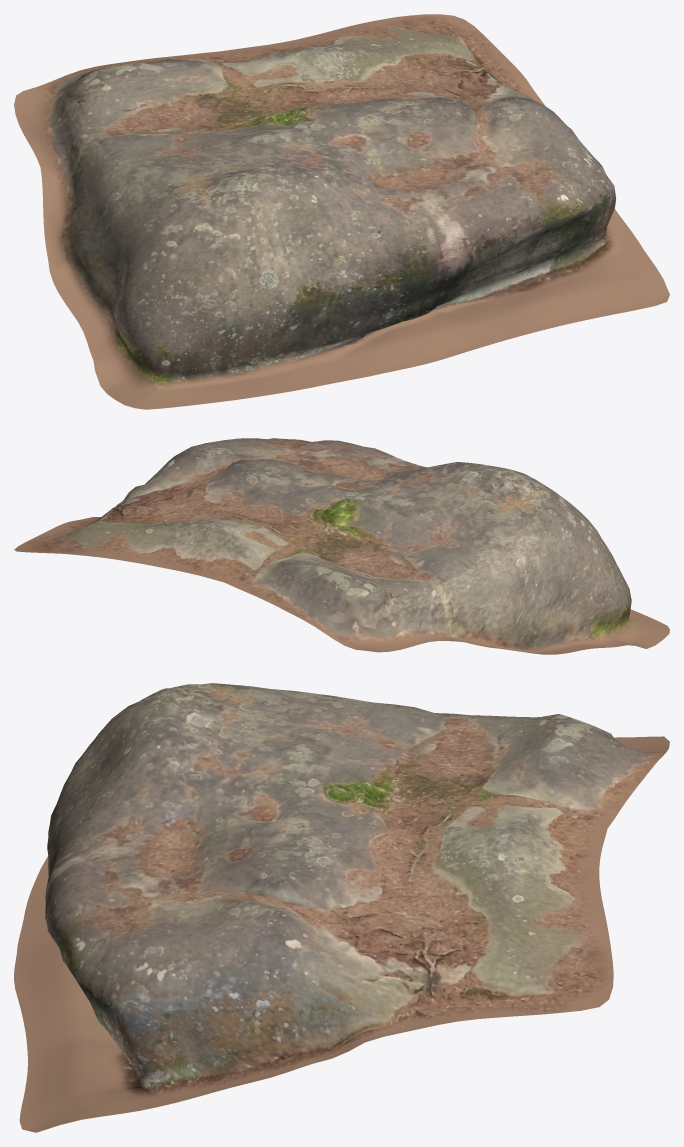
Rendered from Rock_10.FBX.
The picture shows the model from 3 angles, top to bottom: view 1: azimuth 30°, elevation 25°; view 2: azimuth 150°, elevation 25°; view 3: azimuth 270°, elevation 25°; orthographic projection. The views are drawn at different scales.
Visible parts, largest first — view 1: Rock10_LOD0; view 2: Rock10_LOD0; view 3: Rock10_LOD0.
Part boxes in pixels (x1=…): Rock10_LOD0: x1=14, y1=14, x2=669, y2=409; Rock10_LOD0: x1=14, y1=438, x2=669, y2=654; Rock10_LOD0: x1=14, y1=683, x2=669, y2=1132.
Size of what is drawn, in the model's own units: 313 by 93.35 by 260.
1 material, 1 textured.
